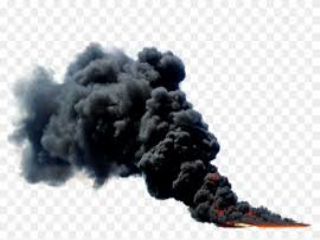smoke: (29, 52, 304, 228)
